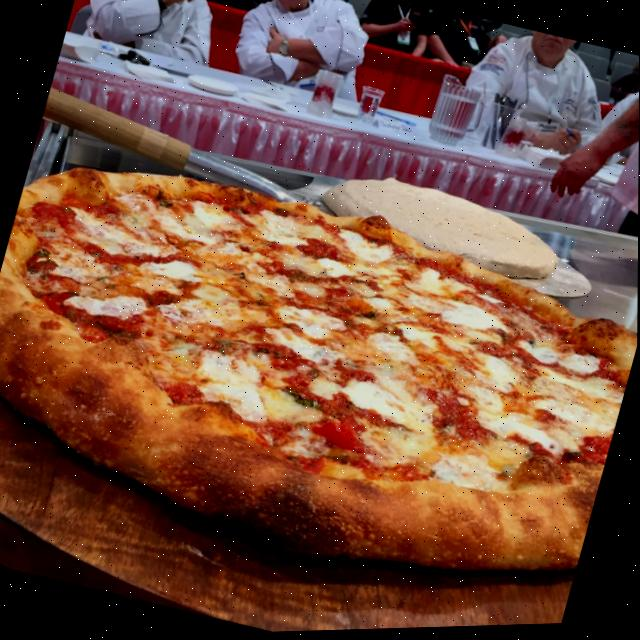basil: (281, 387, 325, 412), (560, 450, 591, 471), (157, 190, 176, 208), (522, 339, 537, 357), (40, 247, 51, 259), (365, 312, 377, 322), (238, 271, 248, 280)
pizza: (0, 121, 639, 632)
